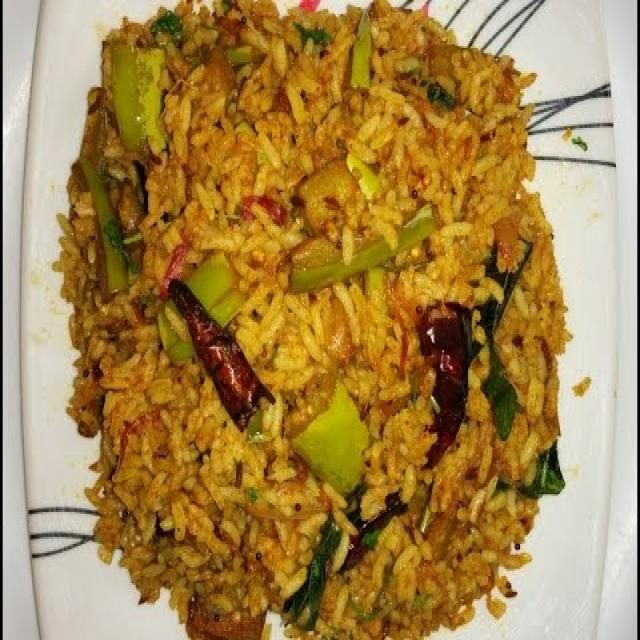vangi bath: (46, 0, 578, 640)
